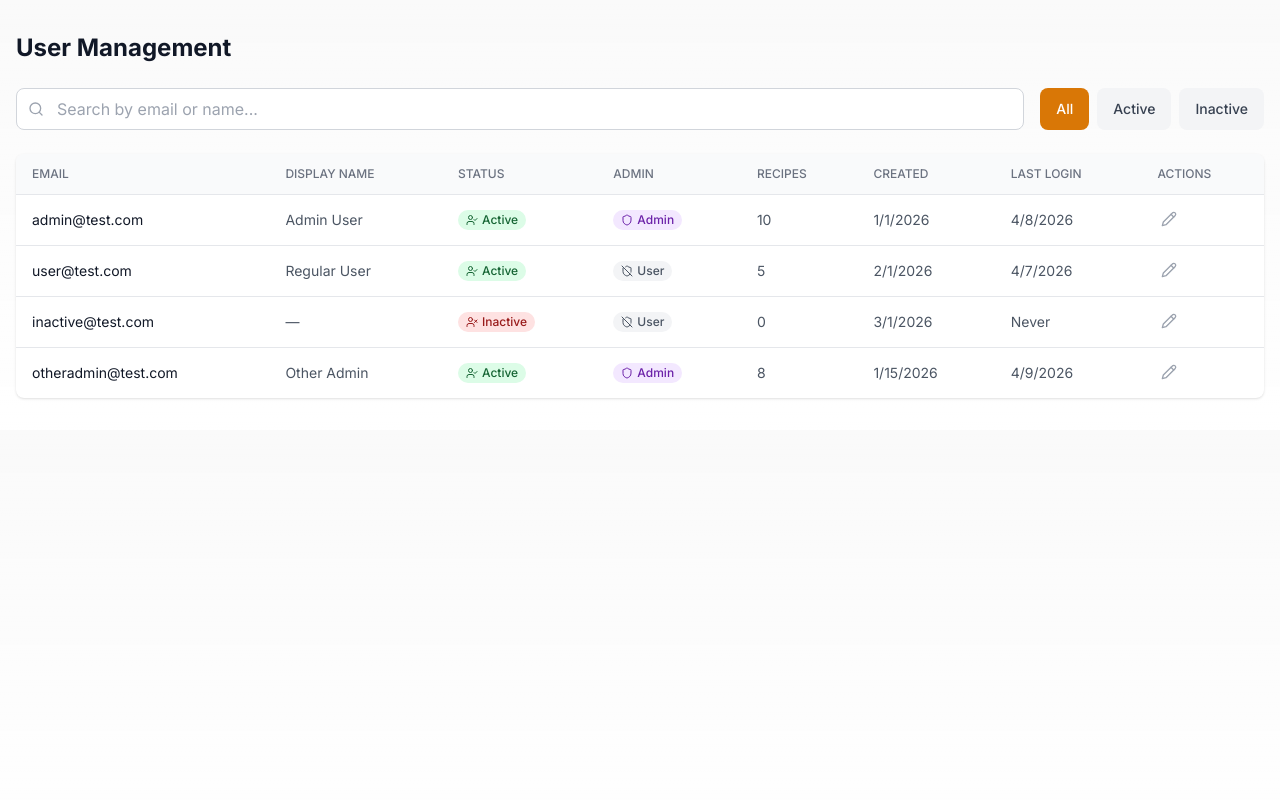
UsersPage › grant admin shows confirmation and updates
Expected: the text "user@test.com" is shown, left=16, top=246, right=269, bottom=296
Second toggle is for user@test.com
Click the switch named "toggle admin status".
click(643, 271)  # box left=613, top=261, right=672, bottom=281
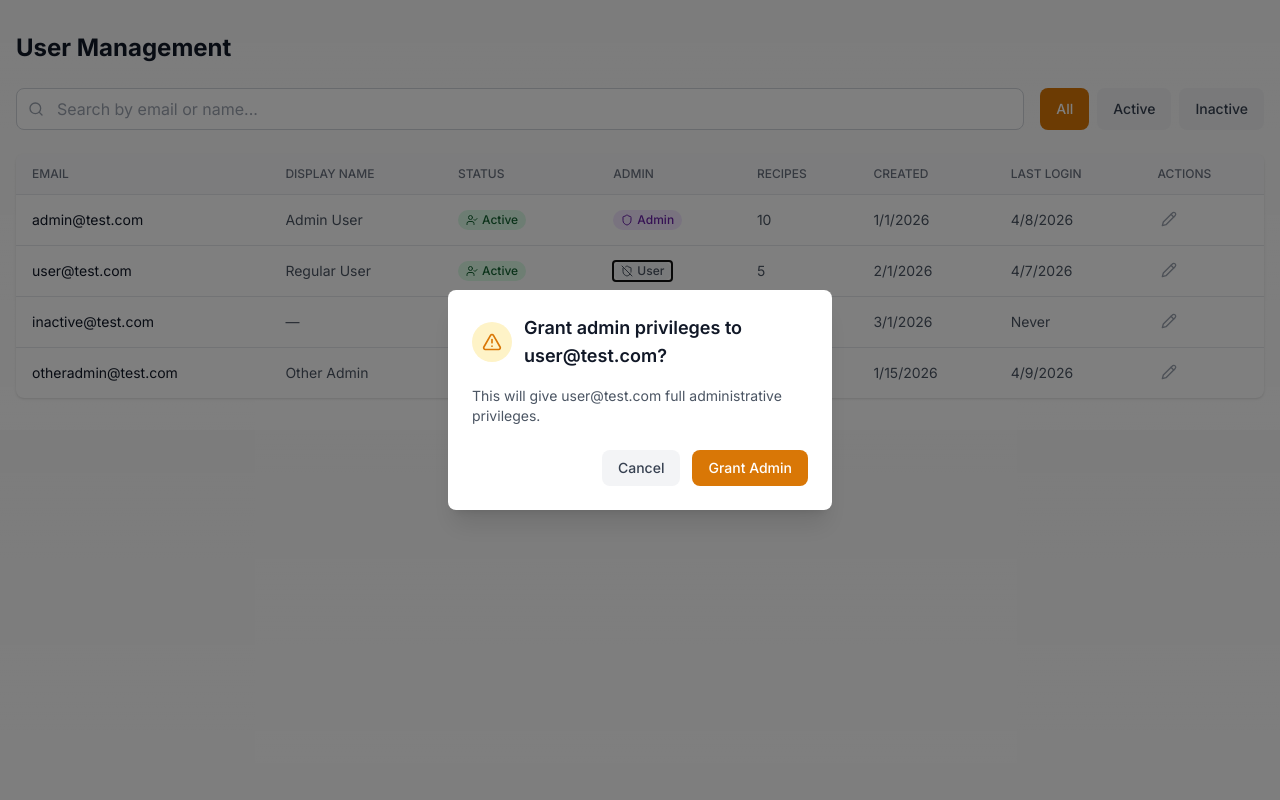
Expected: the heading "Grant admin privileges to user@test.com?" is shown, left=524, top=317, right=742, bottom=366
Expected: the button "Grant Admin" is shown
Click the button "Grant Admin".
click(750, 468)  # box left=692, top=450, right=808, bottom=486
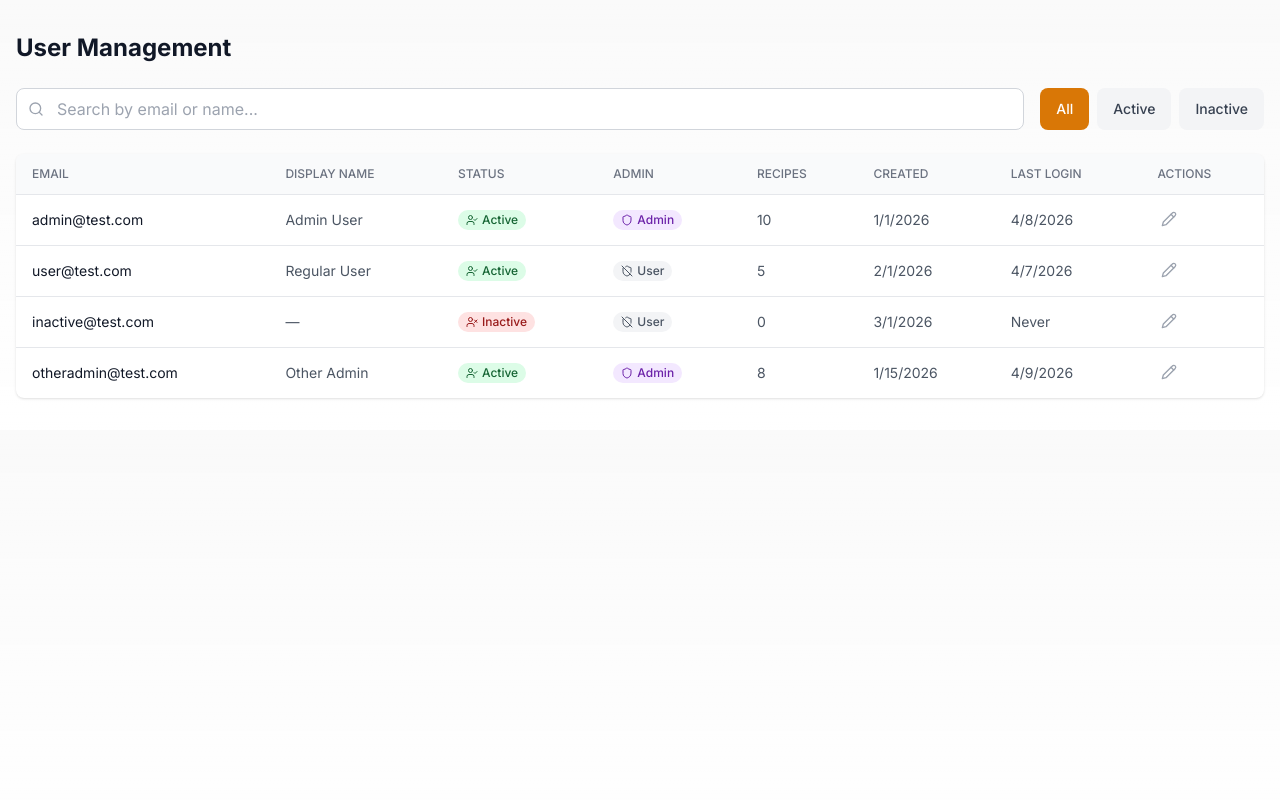
Expected: the heading "Grant admin privileges" is gone
